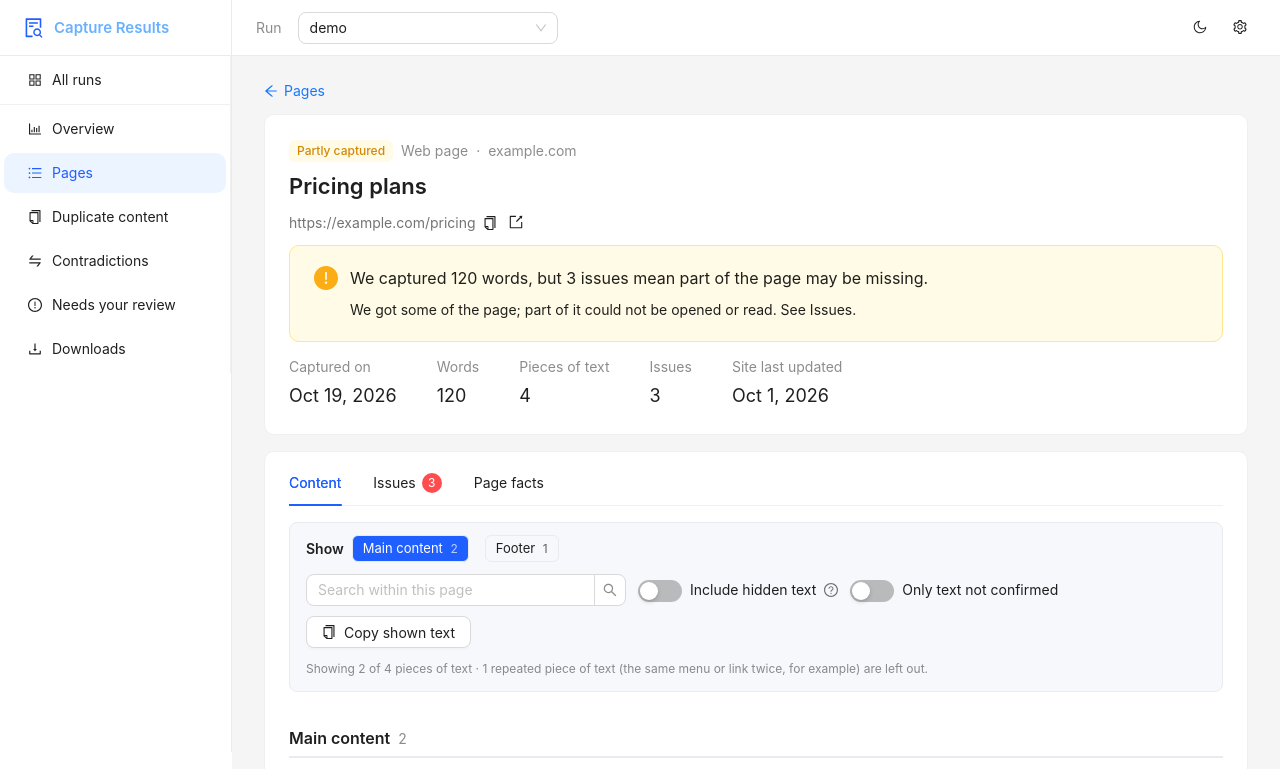
Test: page detail › turns page areas and hidden text on through the URL
Expected: the heading "Pricing plans" is shown, 289,173 -> 427,199
What coordinates should you click on to do the following:
click the text "Footer"
I would click on:
 (522, 548)
Its box is 496,540 -> 548,556.
(page scrolled)
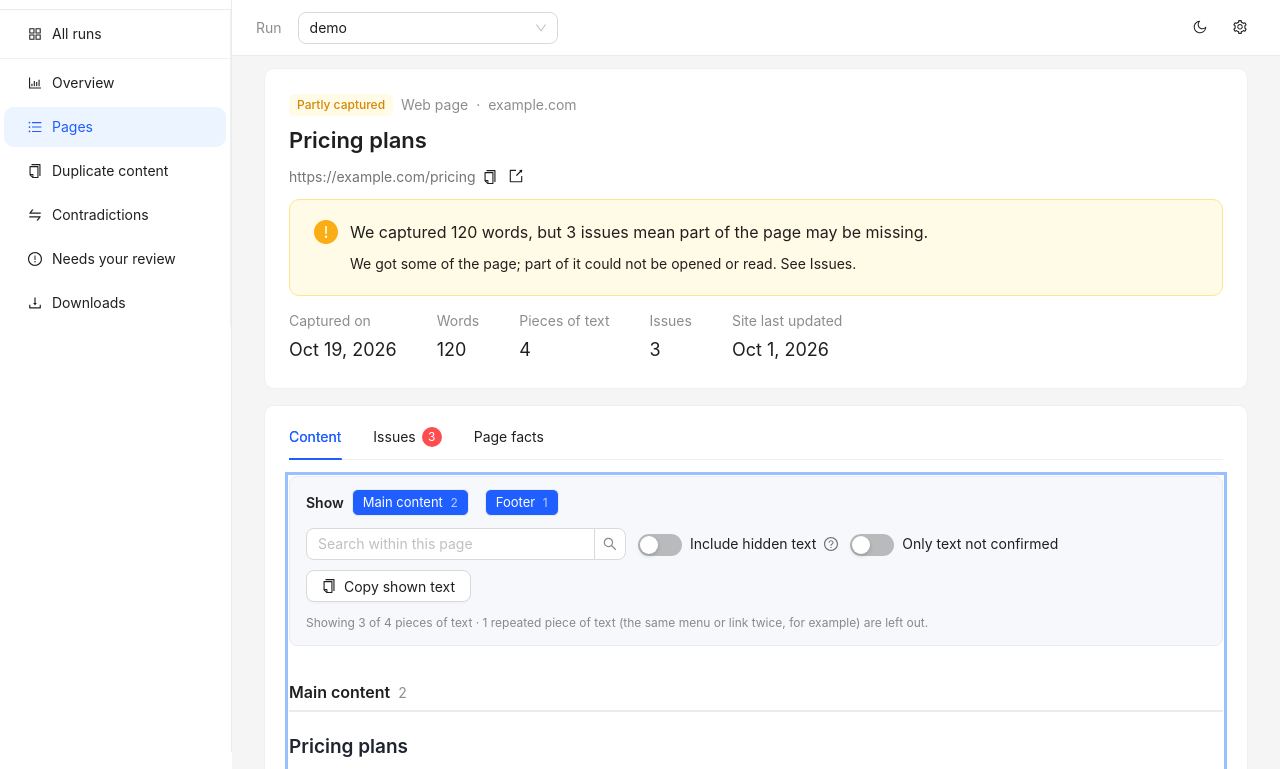
What coordinates should you click on to do the following:
click the switch named "Include hidden text" next to "Include hidden text"
I would click on:
 (660, 545)
Its box is 638,534 -> 682,556.
(page scrolled)
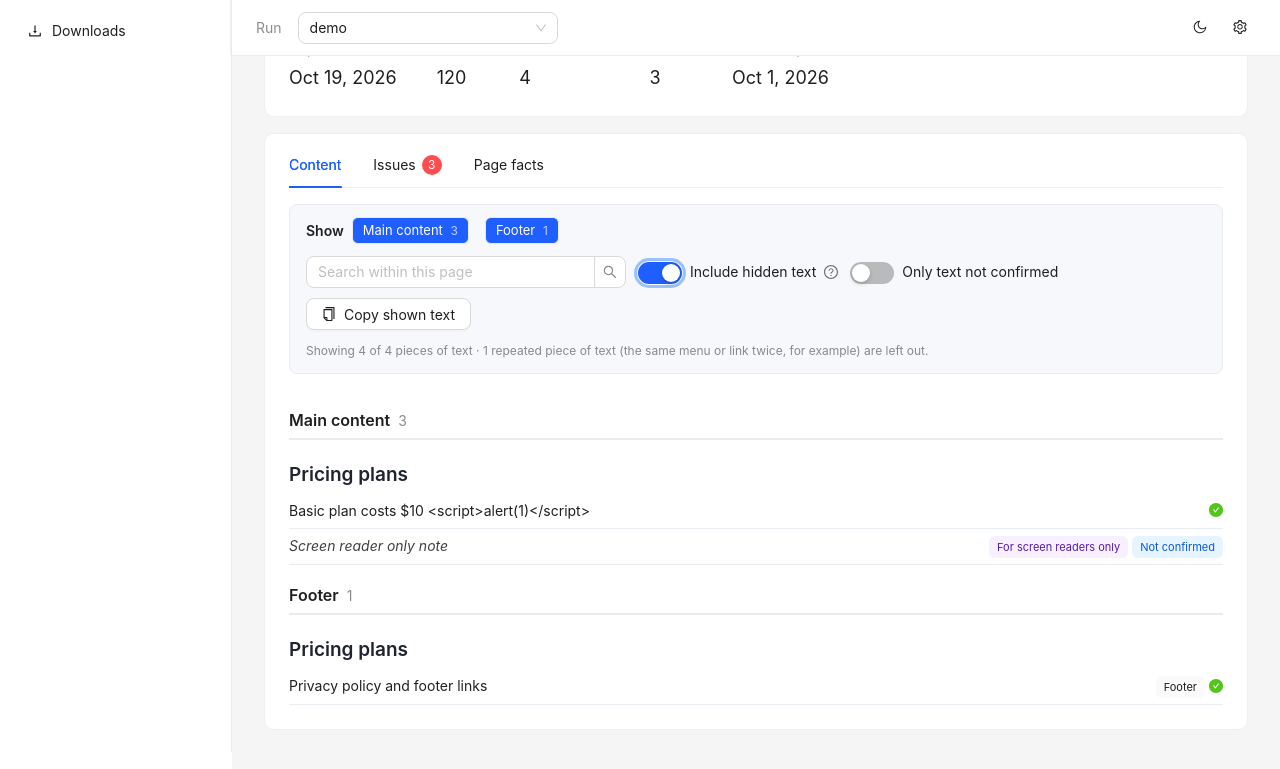
Result: the text "Screen reader only note" is shown at 289,537 -> 448,554
